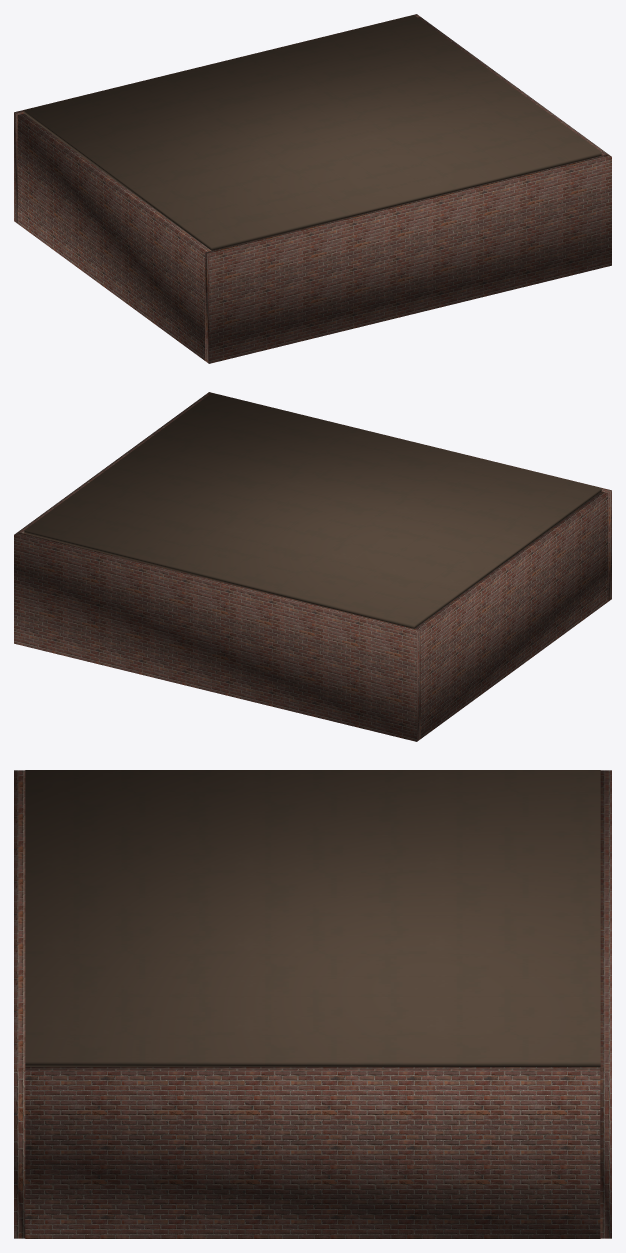
File: room.glb
3 renders of one model, top to bottom at view 1: azimuth 30°, elevation 25°; view 2: azimuth 150°, elevation 25°; view 3: azimuth 270°, elevation 25°, orthographic. The views are drawn at different scales.
Visible parts, largest first — view 1: Ceiling, Brick; view 2: Ceiling, Brick; view 3: Ceiling, Brick.
Part boxes in pixels (x1,y1,x2,y2): Ceiling: (24,15,601,250); Brick: (14,14,611,363); Ceiling: (24,393,601,628); Brick: (14,392,611,741); Ceiling: (25,770,600,1066); Brick: (14,770,611,1238).
Bounding box in the file's own units: 12.4 × 3.4 × 10.4.
Materials: 8 (6 with a texture image).
